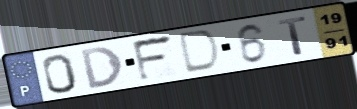0: (39, 51, 80, 95)
6: (236, 23, 271, 64)
D: (78, 44, 126, 91), (178, 28, 223, 76)
F: (130, 33, 177, 84)
T: (275, 14, 310, 57)
